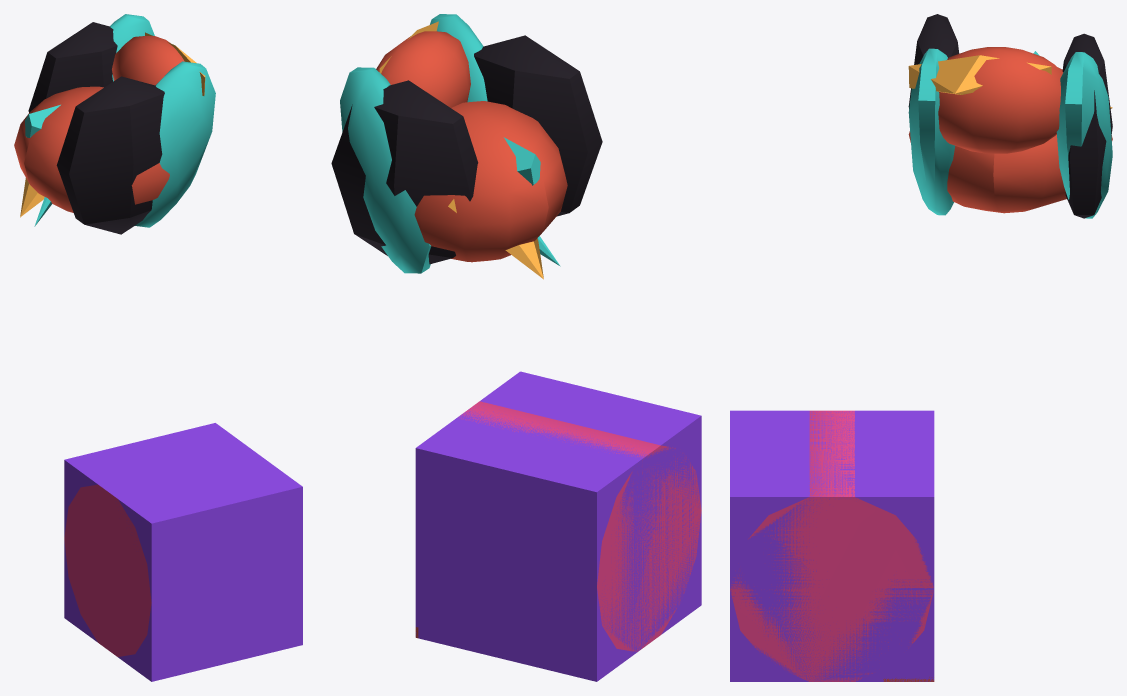
Rendered from maitre-forteresse.glb.
3 renders of one model, left to right at view 1: azimuth 30°, elevation 25°; view 2: azimuth 150°, elevation 25°; view 3: azimuth 270°, elevation 25°, orthographic. The views are drawn at different scales.
Parts seen in each view (by area): view 1: maitre_forteresse_corps, maitre_forteresse_perroquet; view 2: maitre_forteresse_corps, maitre_forteresse_perroquet; view 3: maitre_forteresse_corps, maitre_forteresse_perroquet.
Part boxes in pixels (left/top/right/bottom): maitre_forteresse_corps: left=64, top=423, right=302, bottom=681; maitre_forteresse_perroquet: left=14, top=14, right=215, bottom=234; maitre_forteresse_corps: left=415, top=371, right=701, bottom=681; maitre_forteresse_perroquet: left=331, top=14, right=602, bottom=279; maitre_forteresse_corps: left=730, top=410, right=934, bottom=681; maitre_forteresse_perroquet: left=908, top=14, right=1112, bottom=218.
Bounding box in the file's own units: 2 × 6.65 × 3.75.
